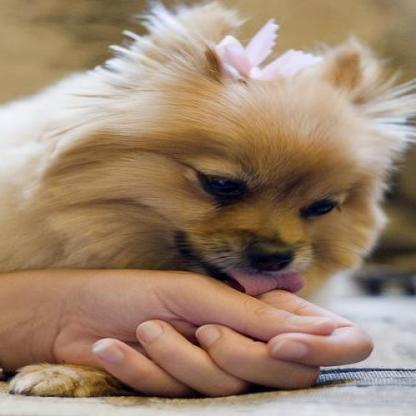Pomeranian: (0, 1, 412, 397)
